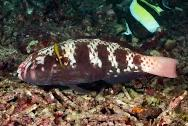Scaridae -Parrotfishes-: (13, 35, 177, 94)
Zanclidae -Moorish Idol-: (86, 0, 139, 35)
